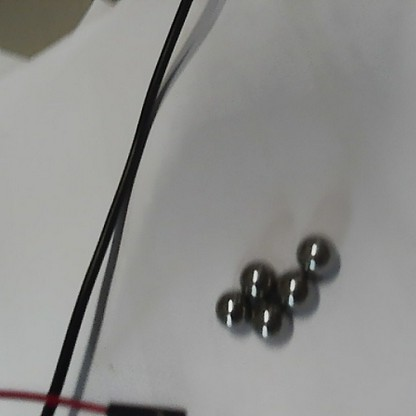ironball: (296, 230, 340, 286), (272, 269, 320, 318), (246, 299, 294, 344), (212, 288, 253, 334), (236, 251, 273, 298)
